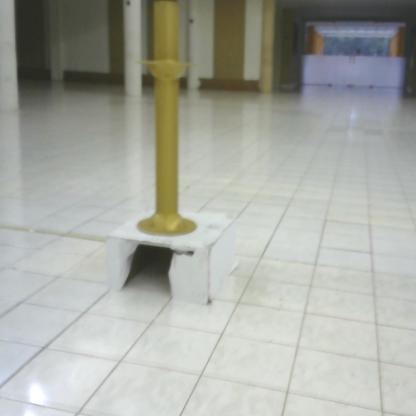pole: (134, 1, 202, 249)
